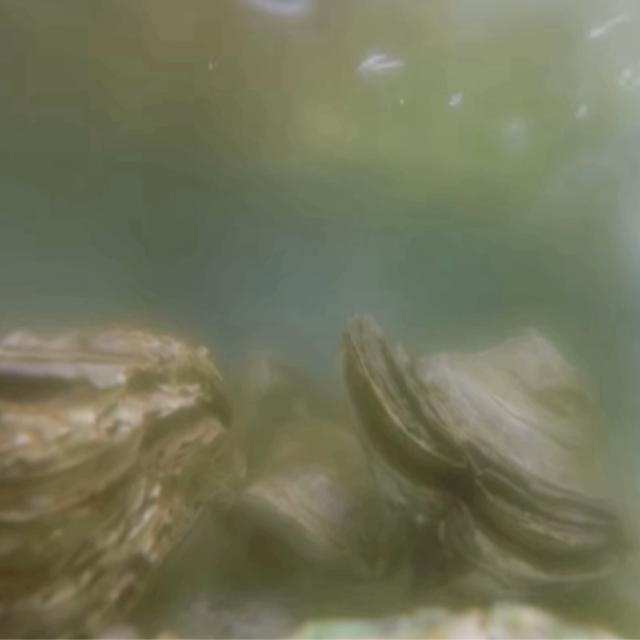Oyster-Closed: (0, 324, 247, 640)
Oyster-Indeterminate: (234, 419, 417, 603)
Oyster-Open: (336, 310, 640, 602)
